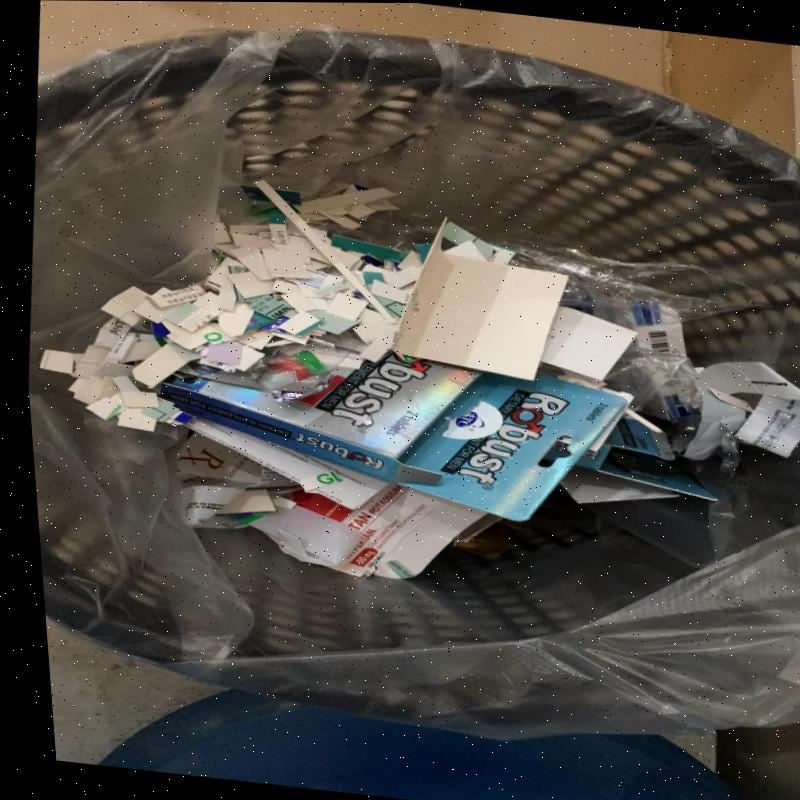cardboard: (155, 351, 629, 522), (390, 228, 568, 381), (576, 413, 717, 500)
paper: (262, 248, 313, 278)
plastic bag: (486, 239, 773, 325)
